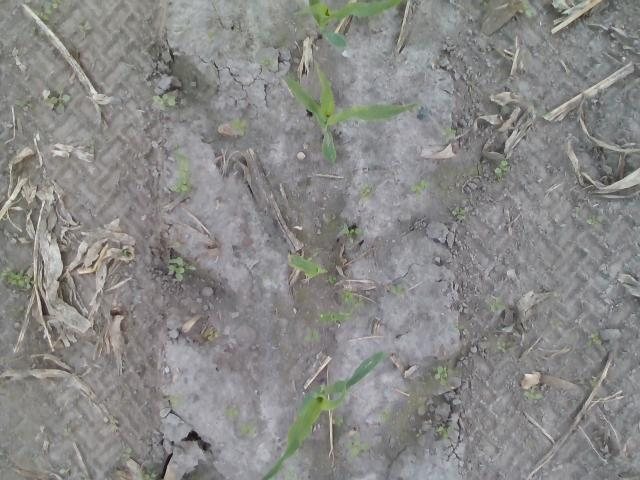Maize: (260, 351, 384, 480), (283, 59, 420, 164), (292, 0, 402, 51), (286, 249, 328, 282)
Weeds: (169, 152, 189, 192), (166, 254, 192, 282), (0, 267, 32, 289), (48, 86, 70, 114), (32, 0, 61, 21), (342, 439, 369, 460), (336, 221, 361, 241), (238, 416, 258, 437), (318, 310, 352, 322), (339, 291, 366, 306), (430, 364, 448, 384), (232, 115, 248, 137), (152, 92, 175, 107), (410, 179, 427, 199), (440, 126, 457, 144), (586, 208, 602, 225), (522, 0, 538, 17), (494, 158, 509, 176), (524, 386, 543, 400), (496, 334, 510, 352), (136, 469, 158, 480), (304, 327, 320, 342), (168, 396, 184, 410), (359, 182, 372, 198), (387, 284, 405, 295), (282, 466, 296, 480), (586, 334, 602, 346), (451, 207, 465, 220), (436, 426, 450, 438), (14, 96, 24, 112), (489, 302, 504, 312), (333, 416, 345, 428), (78, 22, 92, 32), (62, 426, 73, 438), (538, 110, 552, 119), (86, 139, 95, 152), (327, 275, 338, 285), (226, 407, 238, 416), (207, 31, 216, 40), (416, 428, 424, 438), (127, 448, 135, 458), (260, 57, 270, 65), (52, 464, 62, 470), (122, 250, 128, 257)
